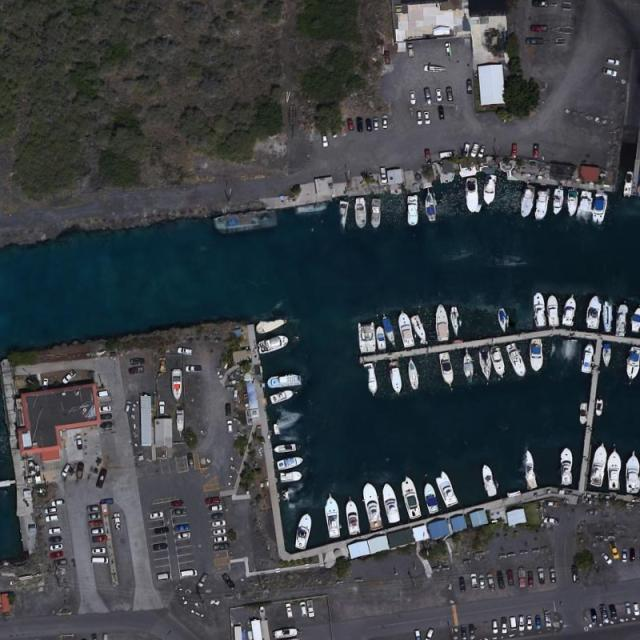vehicle: (223, 572, 236, 589), (97, 469, 107, 489), (62, 370, 75, 384), (423, 87, 432, 105), (572, 567, 581, 585), (601, 552, 613, 565), (424, 148, 433, 164), (470, 142, 479, 158), (600, 603, 608, 621), (180, 568, 196, 577), (307, 601, 315, 618), (486, 574, 495, 589), (380, 167, 388, 183), (154, 526, 170, 534), (330, 124, 339, 138), (177, 346, 191, 355), (45, 514, 59, 523), (531, 144, 539, 159), (507, 571, 515, 586), (471, 575, 479, 590), (546, 517, 561, 525), (611, 543, 619, 558), (151, 542, 166, 550), (425, 65, 442, 72), (198, 573, 207, 586), (157, 571, 170, 580), (532, 26, 548, 33), (478, 144, 486, 158), (604, 69, 618, 77), (550, 568, 557, 584), (538, 568, 545, 584), (501, 618, 508, 634), (286, 604, 294, 618), (610, 606, 618, 620), (76, 434, 83, 450), (210, 505, 224, 513), (171, 498, 185, 506), (228, 529, 238, 540), (442, 151, 454, 160), (62, 465, 71, 477), (322, 131, 329, 146), (510, 143, 517, 158), (479, 574, 486, 589), (211, 520, 226, 527), (174, 524, 189, 531), (346, 119, 354, 132), (101, 498, 114, 506), (186, 454, 194, 467), (215, 542, 228, 550), (77, 462, 83, 479), (384, 50, 391, 64), (498, 574, 505, 588), (535, 615, 542, 629), (186, 365, 200, 372), (96, 391, 110, 398), (87, 506, 101, 513), (172, 508, 186, 515), (527, 38, 543, 44), (365, 118, 373, 130), (464, 142, 470, 158), (546, 611, 552, 627), (510, 618, 518, 630), (492, 618, 498, 634), (50, 551, 62, 559), (92, 558, 108, 564), (438, 106, 445, 119), (445, 44, 452, 57), (446, 88, 453, 101), (466, 81, 473, 94), (607, 58, 620, 65), (129, 367, 142, 374), (214, 536, 227, 543), (93, 547, 106, 554), (91, 527, 104, 534), (520, 571, 526, 586), (462, 625, 468, 640), (260, 606, 266, 621), (114, 513, 120, 528), (425, 629, 433, 640), (533, 1, 547, 7), (527, 616, 533, 630), (519, 617, 525, 631), (470, 626, 476, 640), (227, 420, 233, 434), (586, 509, 598, 516), (591, 610, 598, 622), (130, 358, 144, 364), (44, 508, 58, 514), (50, 500, 64, 506), (205, 497, 219, 503), (214, 528, 226, 535), (176, 532, 190, 538), (94, 535, 106, 542), (436, 89, 442, 102), (226, 402, 232, 415), (622, 550, 628, 563), (48, 537, 61, 543), (48, 528, 61, 534), (159, 401, 165, 414), (302, 602, 307, 617), (382, 115, 388, 127), (460, 579, 466, 591), (547, 502, 559, 508), (626, 603, 632, 615), (54, 560, 66, 566), (100, 422, 112, 428), (90, 520, 102, 526), (410, 90, 415, 104), (529, 572, 534, 586), (414, 630, 421, 640), (150, 513, 164, 518), (101, 414, 112, 420), (99, 406, 110, 412), (42, 378, 48, 389), (125, 402, 131, 413), (409, 45, 414, 58), (425, 111, 430, 124), (417, 111, 422, 123), (358, 118, 362, 133), (630, 550, 635, 562), (50, 545, 62, 550), (211, 514, 223, 519), (374, 118, 379, 129), (88, 514, 99, 519), (102, 632, 108, 640), (636, 604, 640, 615), (234, 389, 238, 398)
